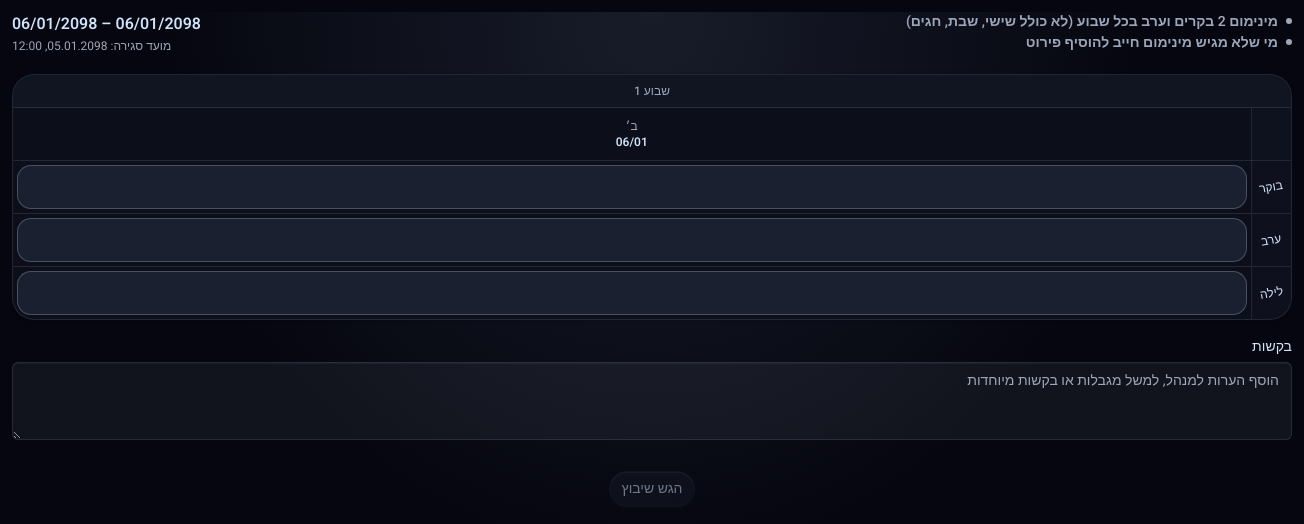
Scenario: cancels local edits back to the saved state
Click the button named "2098-01-06 בוקר:".
click(632, 187)  # box [17, 165, 1246, 209]
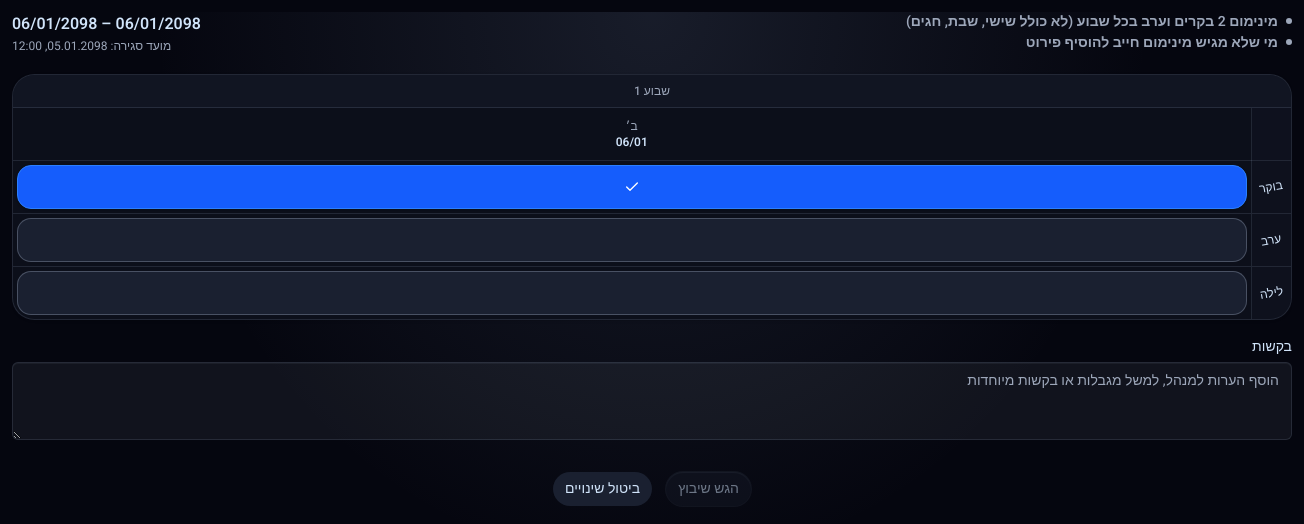
Check: the button named "2098-01-06 בוקר:" has attribute data-state="AVAILABLE", box [17, 165, 1246, 209]
Click the button "ביטול שינויים".
click(603, 489)  # box [552, 471, 653, 507]
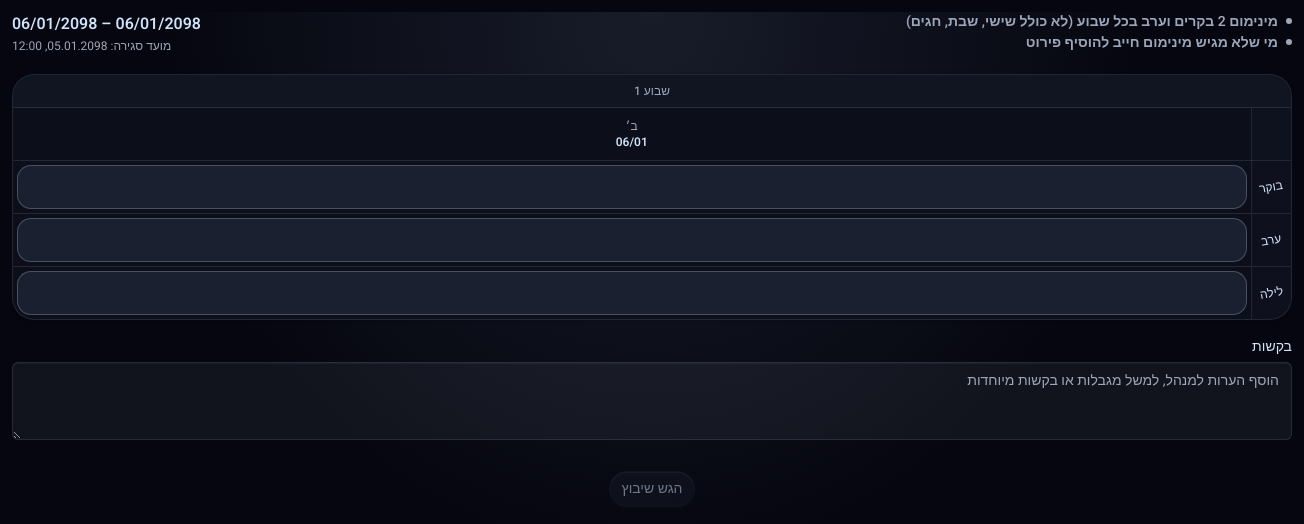
Check: the button "ביטול שינויים" is gone
